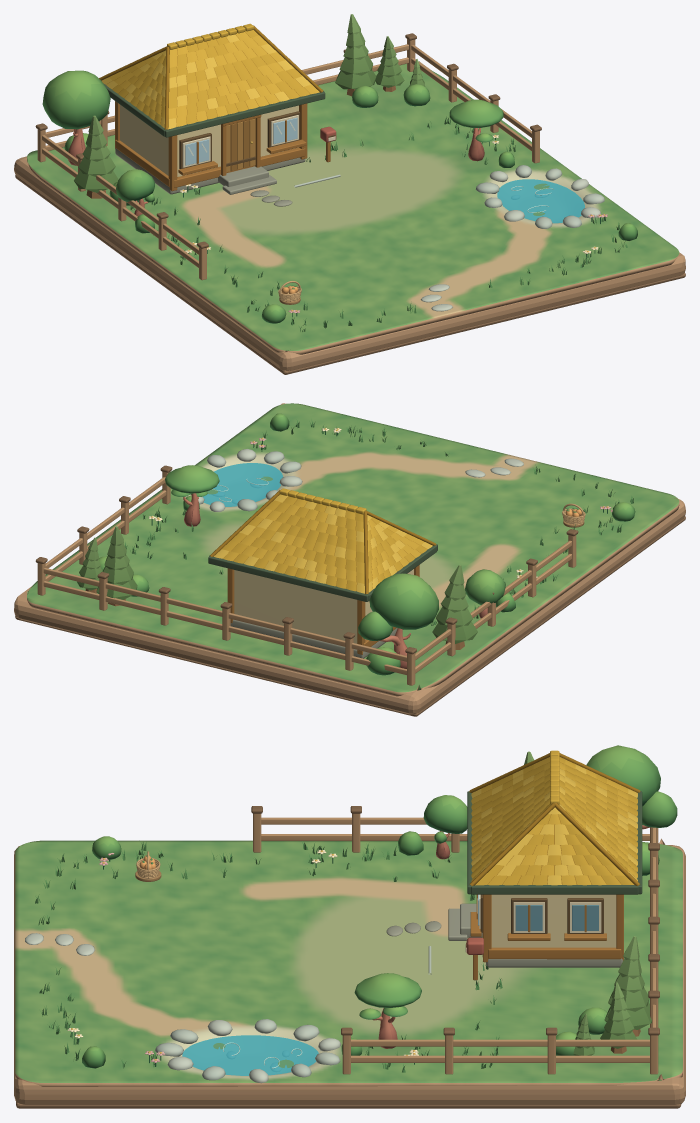
File: garden.glb
3 renders of one model, top to bottom at view 1: azimuth 30°, elevation 25°; view 2: azimuth 150°, elevation 25°; view 3: azimuth 270°, elevation 25°, orthographic. The views are drawn at different scales.
Visible parts, largest first — view 1: NAV_Ground, Cottage, Planting, Terrain_Base, Fence_Path, Pond_Water, Pond_Details, Flowers_Grass; view 2: NAV_Ground, Cottage, Planting, Terrain_Base, Fence_Path, Pond_Water, Pond_Details, Flowers_Grass; view 3: NAV_Ground, Cottage, Terrain_Base, Planting, Fence_Path, Pond_Water, Pond_Details, Flowers_Grass, Basket.
Part boxes in pixels (left/top/right/bottom): NAV_Ground: left=27, top=61, right=679, bottom=354; Cottage: left=99, top=23, right=325, bottom=194; Planting: left=42, top=14, right=637, bottom=323; Terrain_Base: left=14, top=62, right=685, bottom=374; Fence_Path: left=35, top=33, right=541, bottom=280; Pond_Water: left=497, top=179, right=584, bottom=223; Pond_Details: left=475, top=165, right=604, bottom=228; Flowers_Grass: left=130, top=116, right=627, bottom=331; NAV_Ground: left=27, top=403, right=679, bottom=696; Cottage: left=208, top=488, right=437, bottom=658; Planting: left=77, top=413, right=635, bottom=675; Terrain_Base: left=14, top=403, right=685, bottom=716; Fence_Path: left=35, top=465, right=578, bottom=685; Pond_Water: left=203, top=463, right=283, bottom=506; Pond_Details: left=198, top=449, right=302, bottom=511; Flowers_Grass: left=125, top=419, right=633, bottom=625; NAV_Ground: left=15, top=838, right=682, bottom=1086; Cottage: left=448, top=750, right=642, bottom=967; Terrain_Base: left=14, top=845, right=685, bottom=1108; Planting: left=82, top=745, right=677, bottom=1068; Fence_Path: left=251, top=806, right=659, bottom=1074; Pond_Water: left=182, top=1035, right=318, bottom=1075; Pond_Details: left=155, top=1019, right=340, bottom=1083; Flowers_Grass: left=35, top=841, right=502, bottom=1072; Basket: left=135, top=851, right=161, bottom=881.
Size of the model in its own units: 9.48 by 3.26 by 11.05.
